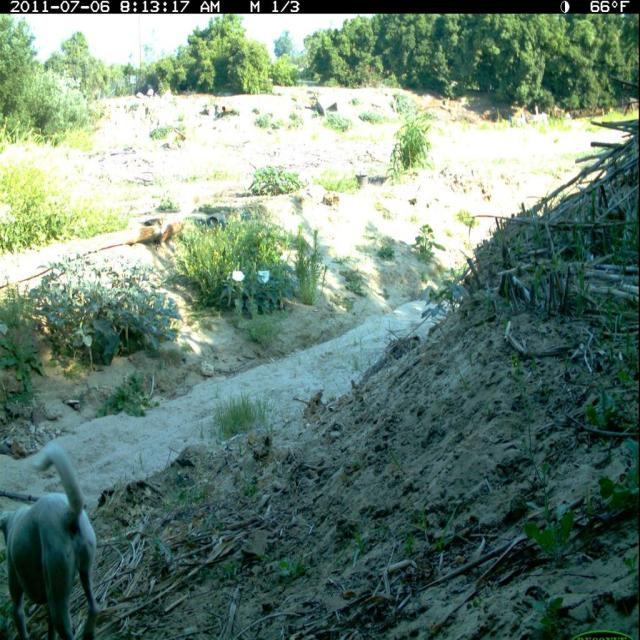dog: (1, 437, 105, 640)
